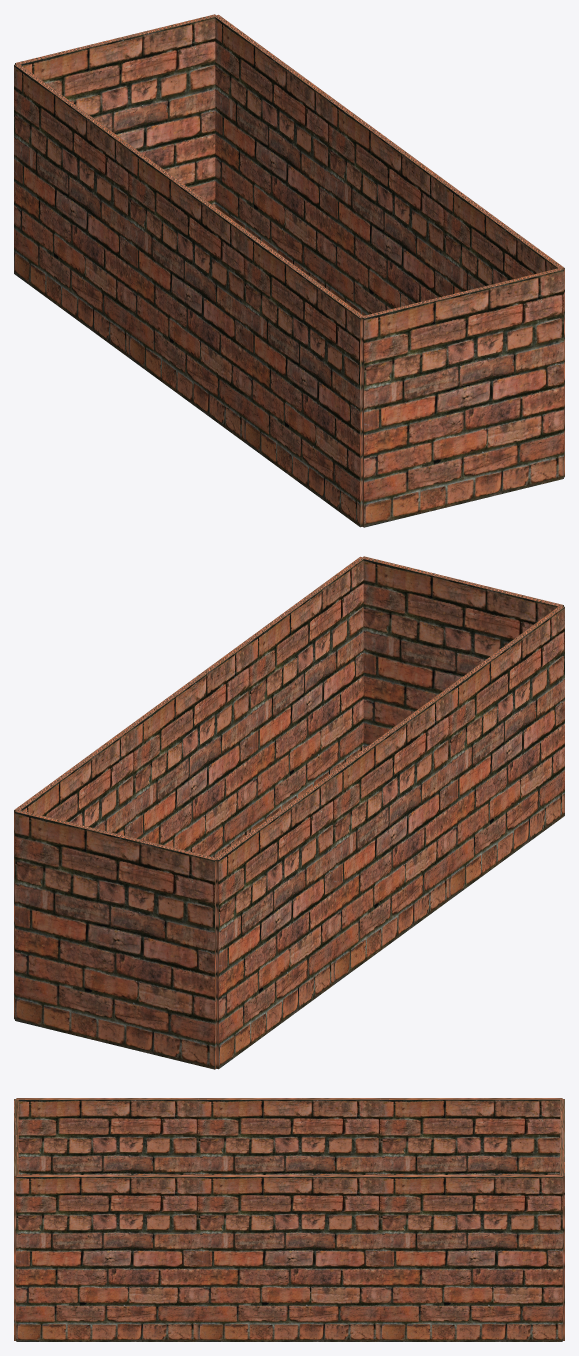
Rendered from sad-mapa9-otimizado.glb.
3 renders of one model, top to bottom at view 1: azimuth 30°, elevation 25°; view 2: azimuth 150°, elevation 25°; view 3: azimuth 270°, elevation 25°, orthographic. The views are drawn at different scales.
Size of the model in its own units: 4.1 by 4.01 by 12.1.
2 materials, 2 textured.
